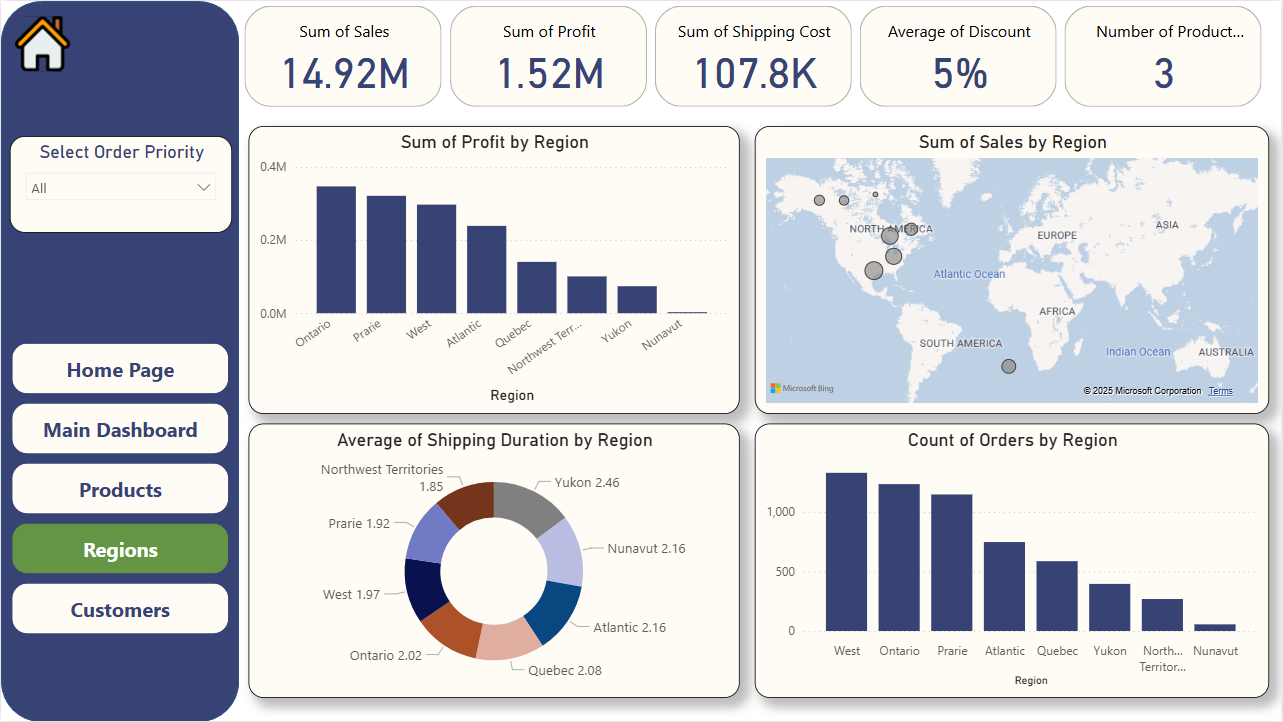

Layout of this report page (visuals, bound fields, positions):
{"tool":"powerbi","page":{"name":"Regions","canvas":[1280,720],"ordinal":3},"visuals":[{"type":"cardVisual","fields":{"Data":["Sum(Final Data.Sales)","Sum(Final Data.Profit)","Sum(Final Data.Shipping Cost)","Avg(Final Data.Discount)","Count(Final Data.Product Category)"]},"box":[238.8,0,1029.2,111.1],"z":0},{"type":"map","fields":{"Category":["Final Data.Region"],"Size":["Sum(Final Data.Sales)"]},"box":[753.3,124.9,514.6,288.2],"z":1000},{"type":"columnChart","fields":{"Category":["Final Data.Region"],"Y":["Sum(Final Data.Profit)"]},"box":[247,124.9,491.3,288.2],"z":2000},{"type":"donutChart","fields":{"Category":["Final Data.Region"],"Y":["Avg(Final Data.Shipping Duration)"]},"box":[247,422.6,491.3,274.4],"z":3000},{"type":"columnChart","title":"Count of Orders by Region","fields":{"Y":["Count(Final Data.Order ID)"],"Category":["Final Data.Region"]},"box":[753.3,422.6,514.6,274.4],"z":4000},{"type":"pageNavigator","box":[11,343.1,216.8,293.7],"z":5000},{"type":"slicer","title":"Select Order Priority","fields":{"Values":["Final Data.Order Priority"]},"box":[8.5,135.2,222.5,97.2],"z":6000},{"type":"actionButton","box":[9.9,11.3,78.9,63.4],"z":7000}]}

Visuals, with their boxes in screenshot pixels (x1, y1, x2, y2), scaled from the page's 1280x720 canvas onto the 1283x722 screenshot:
cardVisual - Sum(Final Data.Sales) x Sum(Final Data.Profit): [x1=239, y1=0, x2=1271, y2=111]
map - Final Data.Region x Sum(Final Data.Sales): [x1=755, y1=125, x2=1271, y2=414]
columnChart - Final Data.Region x Sum(Final Data.Profit): [x1=248, y1=125, x2=740, y2=414]
donutChart - Final Data.Region x Avg(Final Data.Shipping Duration): [x1=248, y1=424, x2=740, y2=699]
"Count of Orders by Region" columnChart: [x1=755, y1=424, x2=1271, y2=699]
pageNavigator: [x1=11, y1=344, x2=228, y2=639]
"Select Order Priority" slicer: [x1=9, y1=136, x2=232, y2=233]
actionButton: [x1=10, y1=11, x2=89, y2=75]
